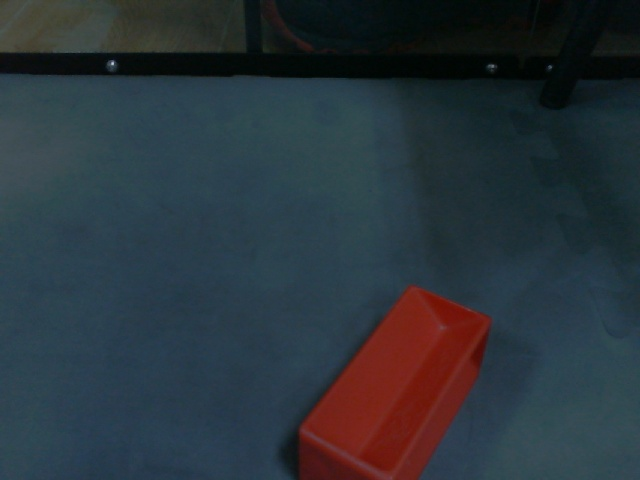RedSample: (293, 281, 494, 480)
